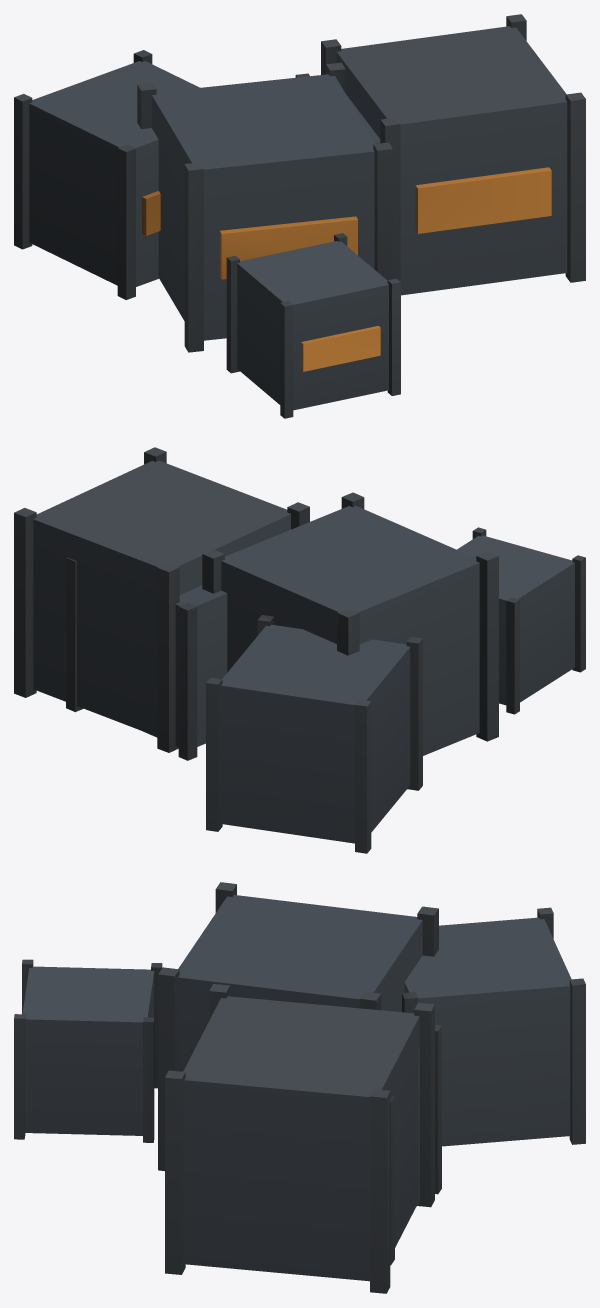
Rendered from obj_cajas_3.glb.
The picture shows the model from 3 angles, top to bottom: view 1: azimuth 30°, elevation 25°; view 2: azimuth 150°, elevation 25°; view 3: azimuth 270°, elevation 25°; orthographic projection. The views are drawn at different scales.
Parts seen in each view (by area): view 1: propforge-libre-cajas; view 2: propforge-libre-cajas; view 3: propforge-libre-cajas.
Boxes of the visible parts, x1=… form: propforge-libre-cajas: x1=14, y1=14, x2=585, y2=418; propforge-libre-cajas: x1=14, y1=447, x2=585, y2=853; propforge-libre-cajas: x1=14, y1=882, x2=585, y2=1293.
Size of the model in its own units: 1.22 by 0.4917 by 1.3.
